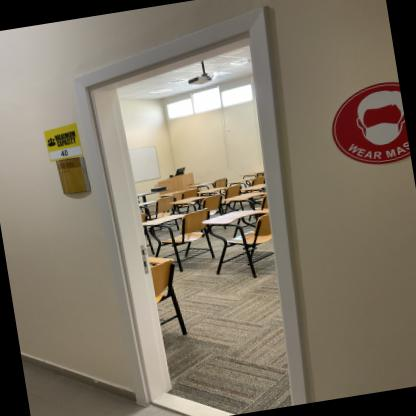open: (60, 10, 367, 415)
